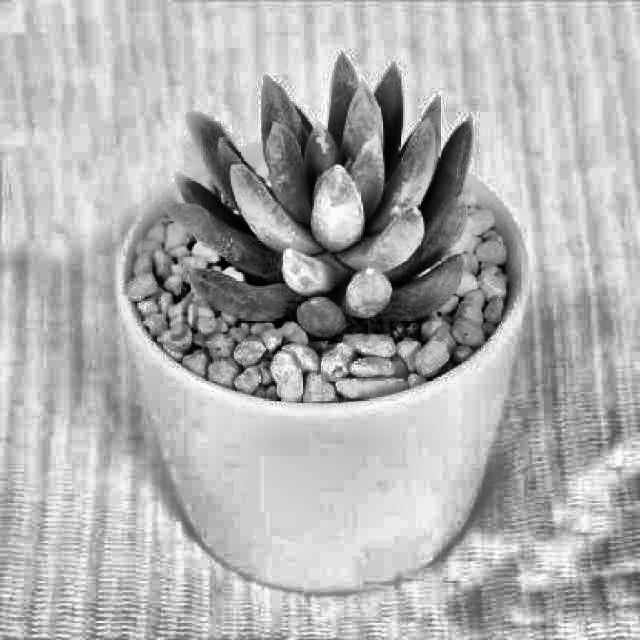plants: (136, 56, 522, 576)
